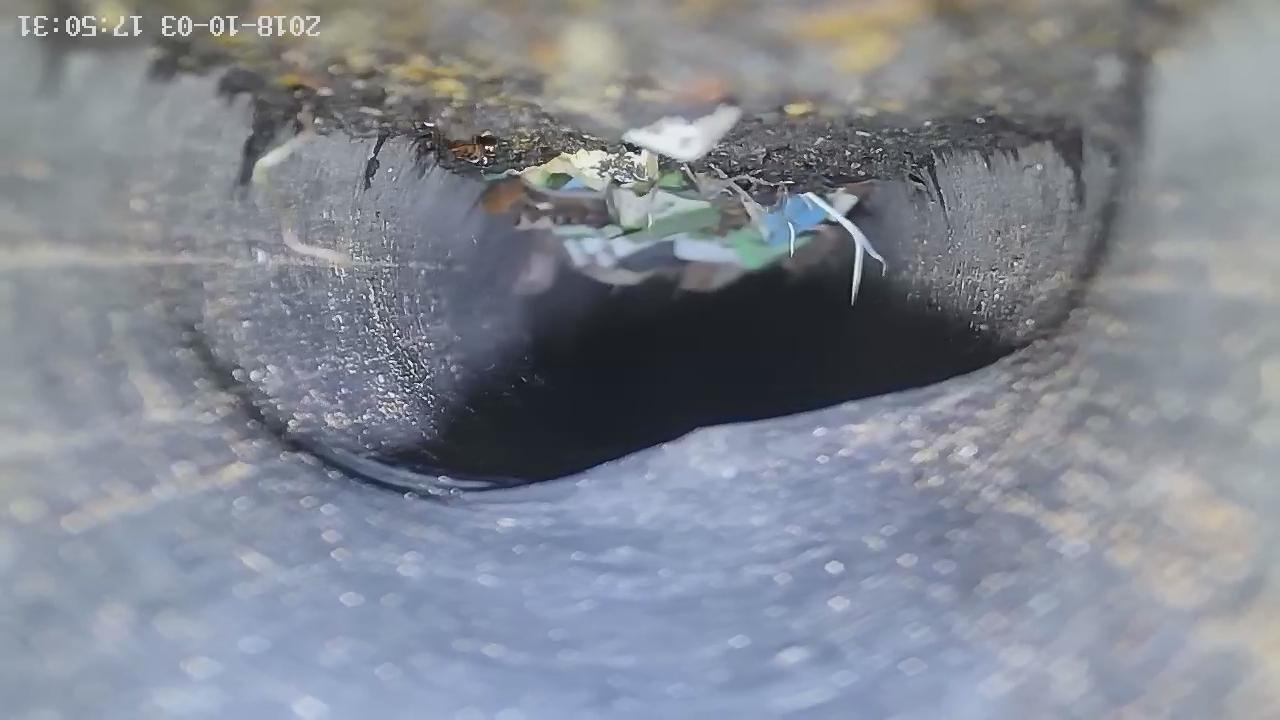BX: (324, 358, 1079, 545)
CJ: (152, 2, 1225, 291)
